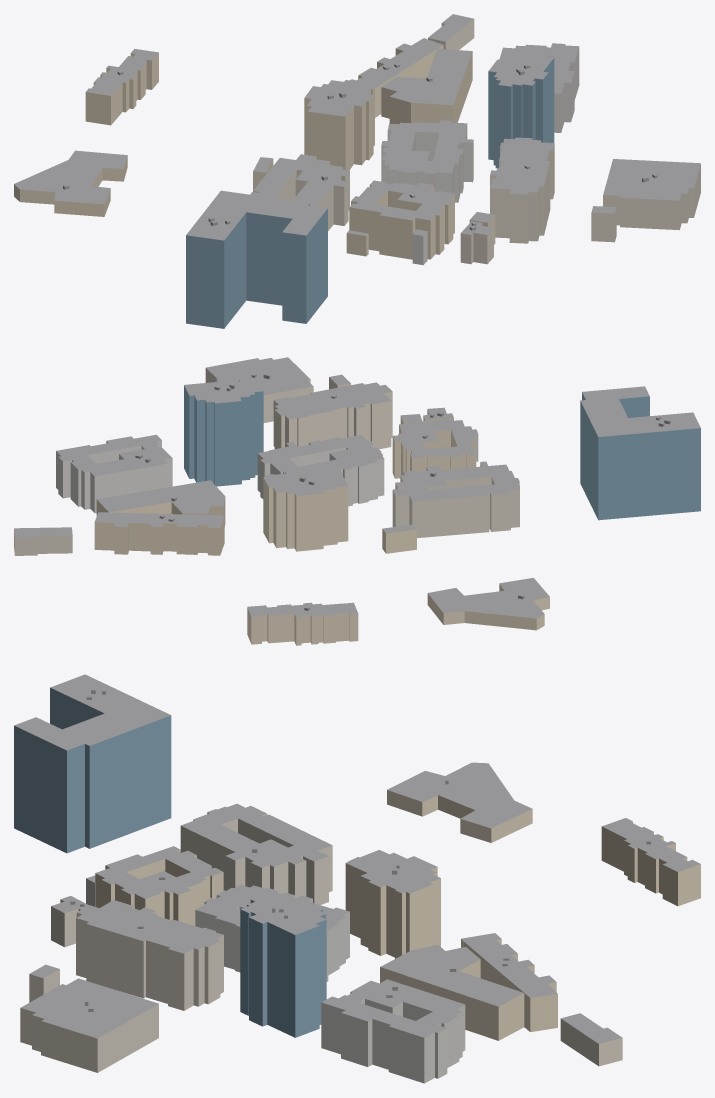
File: building_0_3.glb
3 views of the same model, one above another, from view 1: azimuth 30°, elevation 25°; view 2: azimuth 150°, elevation 25°; view 3: azimuth 270°, elevation 25° (orthographic). The views are drawn at different scales.
Visible parts, largest first — view 1: roof, glass_blue, sandstone, concrete_warm, concrete_light; view 2: roof, glass_blue, sandstone, concrete_warm, concrete_light; view 3: roof, glass_blue, concrete_warm, sandstone, concrete_light.
Boxes of the visible parts, x1,y1,x2,y2 form: roof: (14, 14, 700, 240); glass_blue: (186, 58, 554, 328); sandstone: (14, 45, 495, 259); concrete_warm: (253, 19, 700, 264); concrete_light: (381, 44, 579, 265); roof: (14, 357, 700, 618); glass_blue: (184, 380, 700, 520); sandstone: (94, 415, 549, 645); concrete_warm: (14, 368, 519, 555); concrete_light: (56, 434, 478, 513); roof: (14, 674, 700, 1043); glass_blue: (14, 687, 326, 1037); concrete_warm: (20, 812, 622, 1072); sandstone: (95, 790, 700, 1040); concrete_light: (86, 878, 465, 1083).
Bounding box in the file's own units: 287 × 46.68 × 272.
